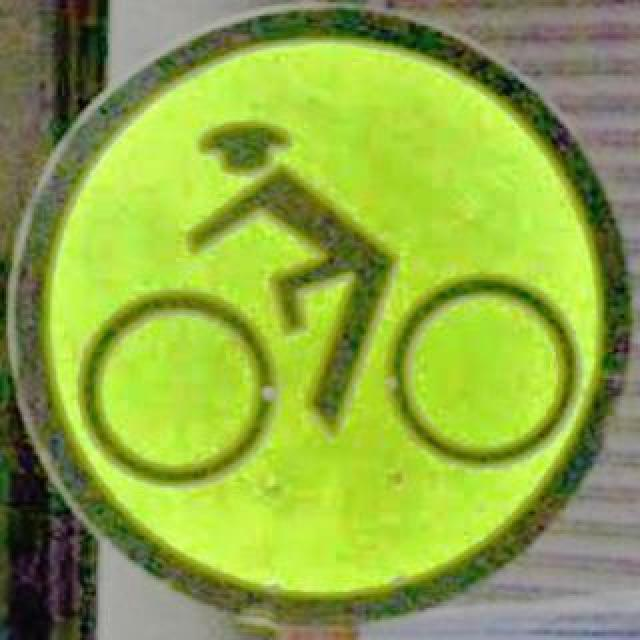bike lane: (10, 4, 630, 620)
